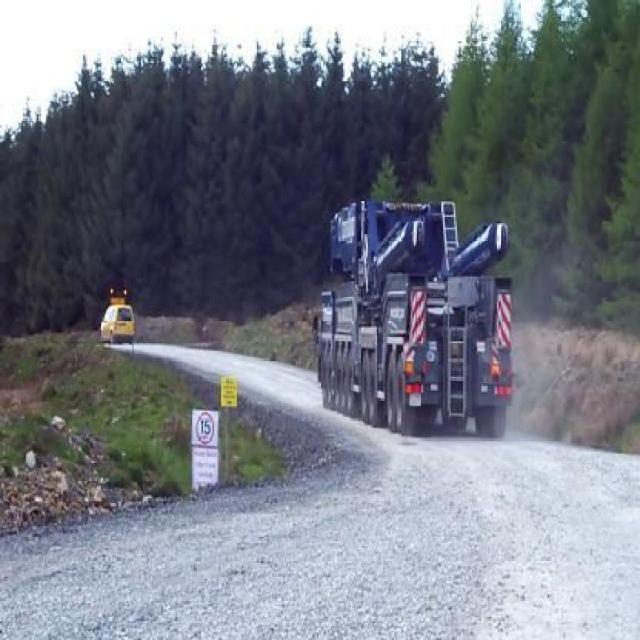Mobile Crane: (315, 199, 510, 433)
